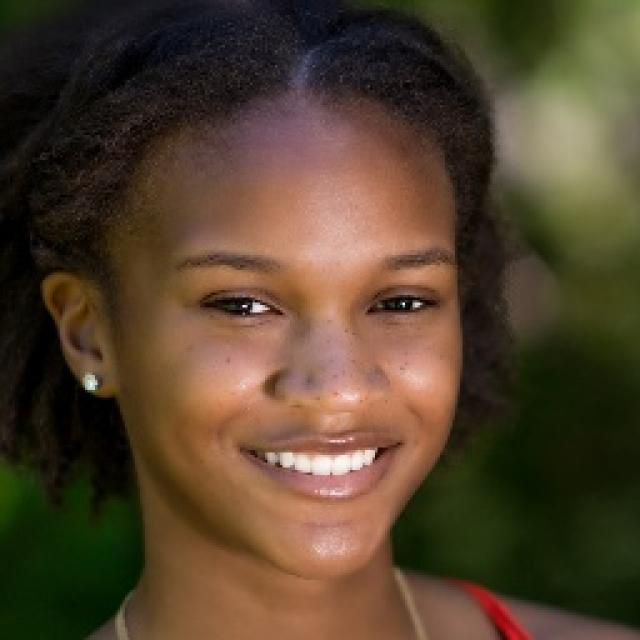earlobe: (85, 360, 122, 399)
eye: (197, 295, 282, 321), (370, 292, 440, 318)
nose: (279, 395, 391, 431)
wholeear: (40, 272, 123, 400)
